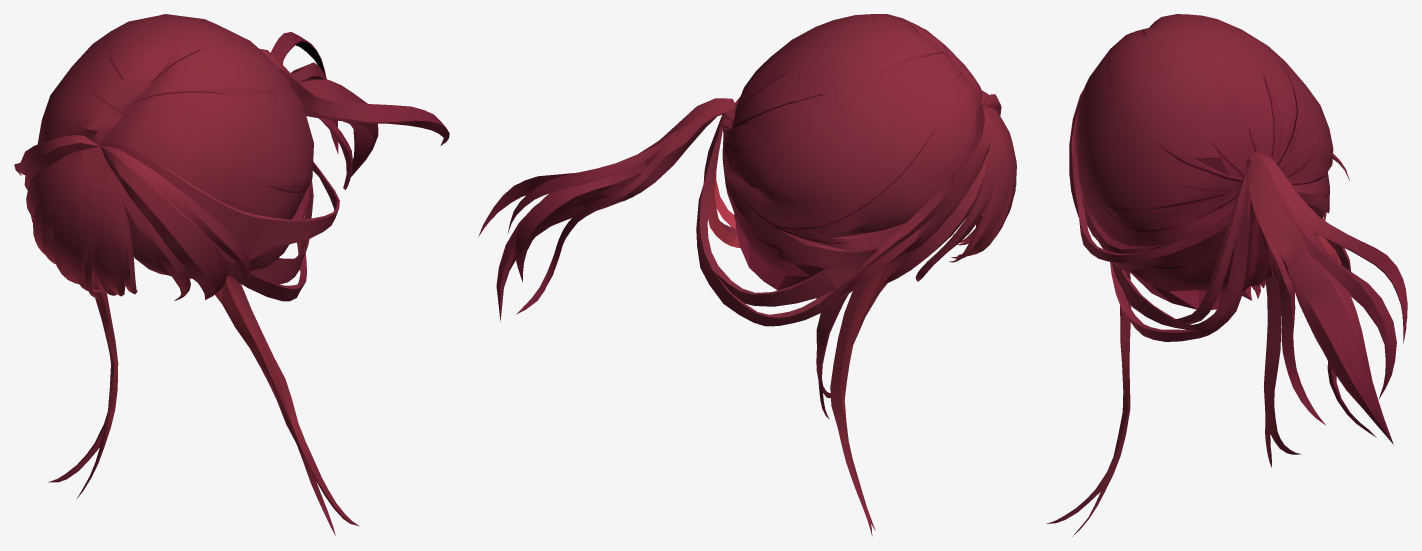
Rendered from Kafka Hair.gltf.
3 renders of one model, left to right at view 1: azimuth 30°, elevation 25°; view 2: azimuth 150°, elevation 25°; view 3: azimuth 270°, elevation 25°, orthographic. The views are drawn at different scales.
Parts seen in each view (by area): view 1: Hair; view 2: Hair; view 3: Hair.
Part boxes in pixels (x1,y1,x2,y2): Hair: [14, 14, 449, 535]; Hair: [478, 14, 1016, 536]; Hair: [1046, 14, 1407, 536].
Size of the model in its own units: 0.3876 by 0.3815 by 0.2685.
1 material, 1 textured.
